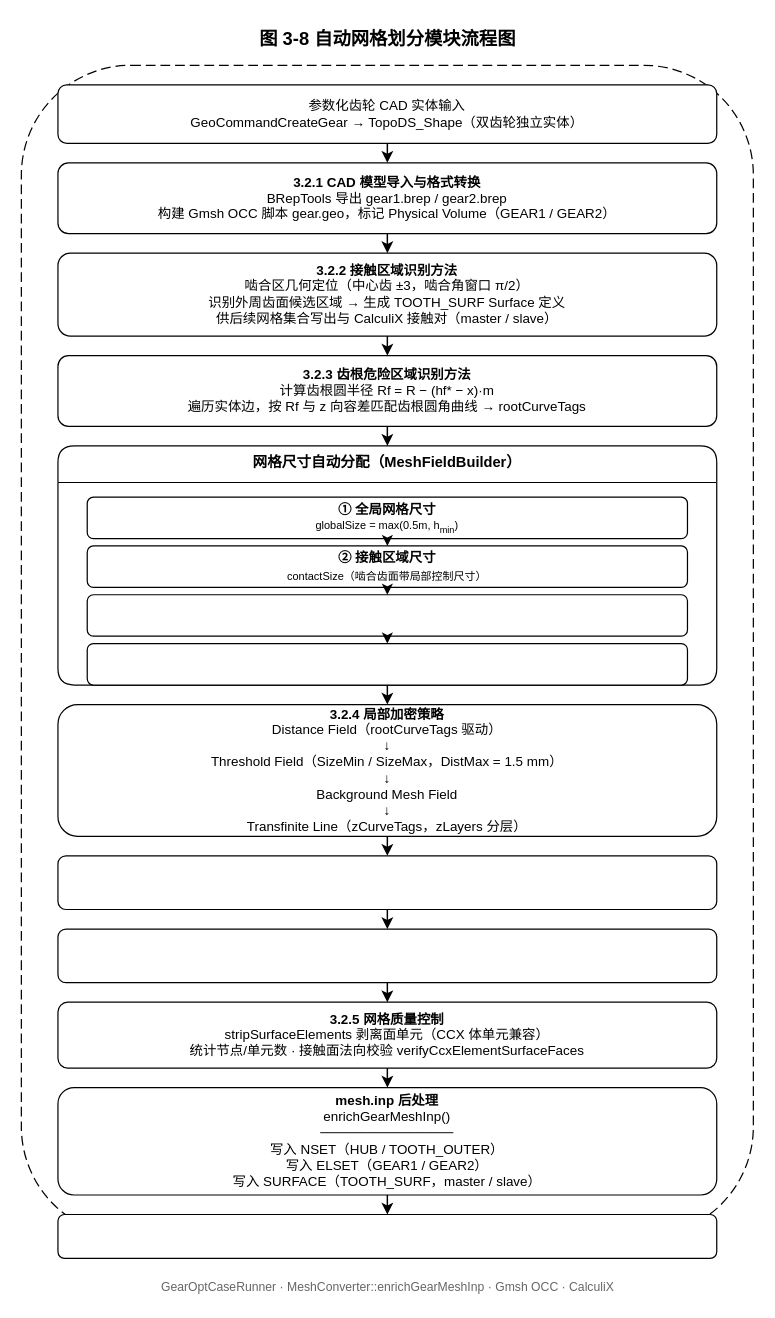
Some shapes in this 775 by 1318 pixel diagram are drawn without their labels. Each missing label, with the box of its shape:
C3D4 四面体单元生成 输出 mesh.inp 初稿: (57, 928, 717, 983)
CalculiX 自动求解（第 3.3 节）: (57, 1213, 717, 1258)
Gmsh 三维网格生成 gmsh -3 · Mesh.generate(3): (57, 855, 717, 910)
③ 齿根区域尺寸 rootSize = 0.40 mm（Distance Field SizeMin）: (86, 594, 687, 636)
④ Z 向分层数量 zLayers = clamp(⌈B/1⌉+1, 10, 14): (86, 642, 687, 685)
